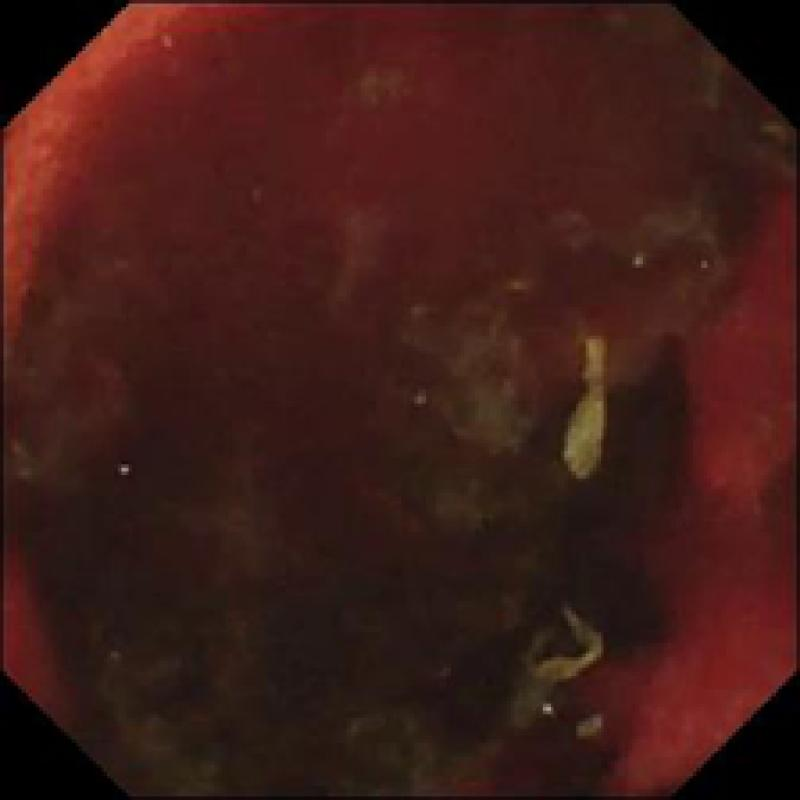bleeding: (589, 218, 800, 800), (100, 11, 689, 218), (0, 548, 70, 719)
